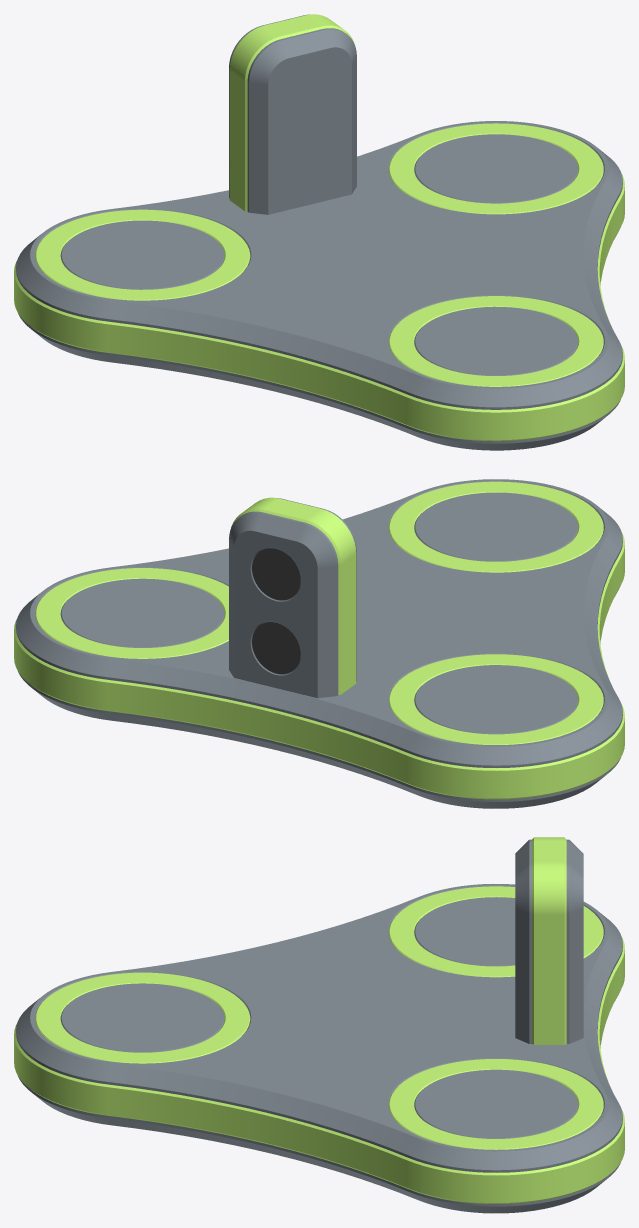
The model's file is WildWillyR5_base.dae.
The picture shows the model from 3 angles, top to bottom: view 1: azimuth 30°, elevation 25°; view 2: azimuth 150°, elevation 25°; view 3: azimuth 270°, elevation 25°; orthographic projection.
Visible parts, largest first — view 1: ID2; view 2: ID2; view 3: ID2.
Boxes of the visible parts, x1,y1,x2,y2 form: ID2: [14, 14, 624, 450]; ID2: [14, 479, 624, 808]; ID2: [14, 837, 624, 1213].
Bounding box in the file's own units: 0.331 × 0.3038 × 0.1252.
